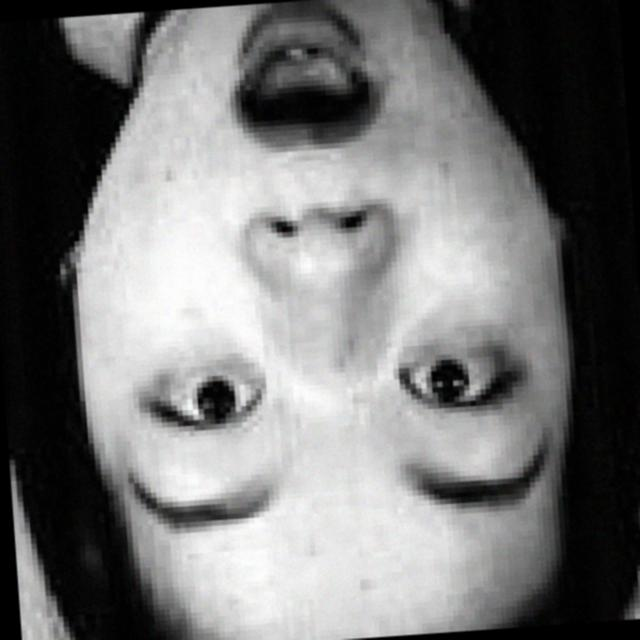surprise: (55, 0, 584, 630)
